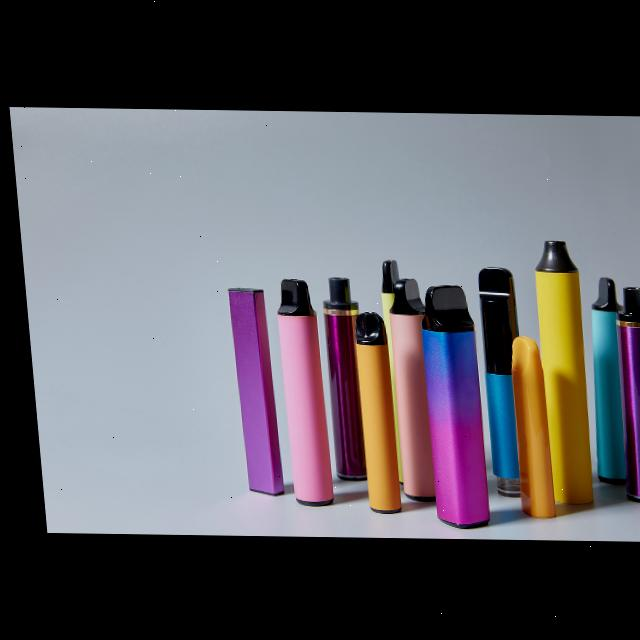vape: (411, 283, 483, 529), (526, 238, 591, 504), (469, 264, 525, 499), (270, 277, 326, 507), (380, 277, 434, 502), (222, 286, 277, 497), (575, 274, 629, 483), (313, 275, 365, 482), (347, 310, 394, 514), (500, 335, 547, 519), (603, 284, 640, 504)
